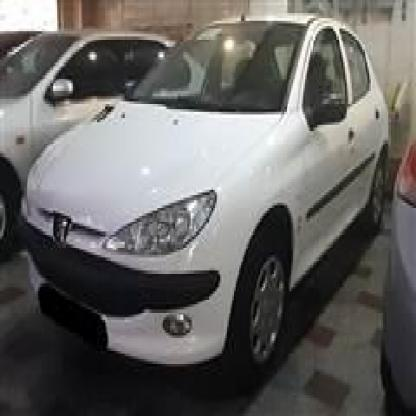Car: (7, 5, 383, 393), (0, 13, 168, 229)
